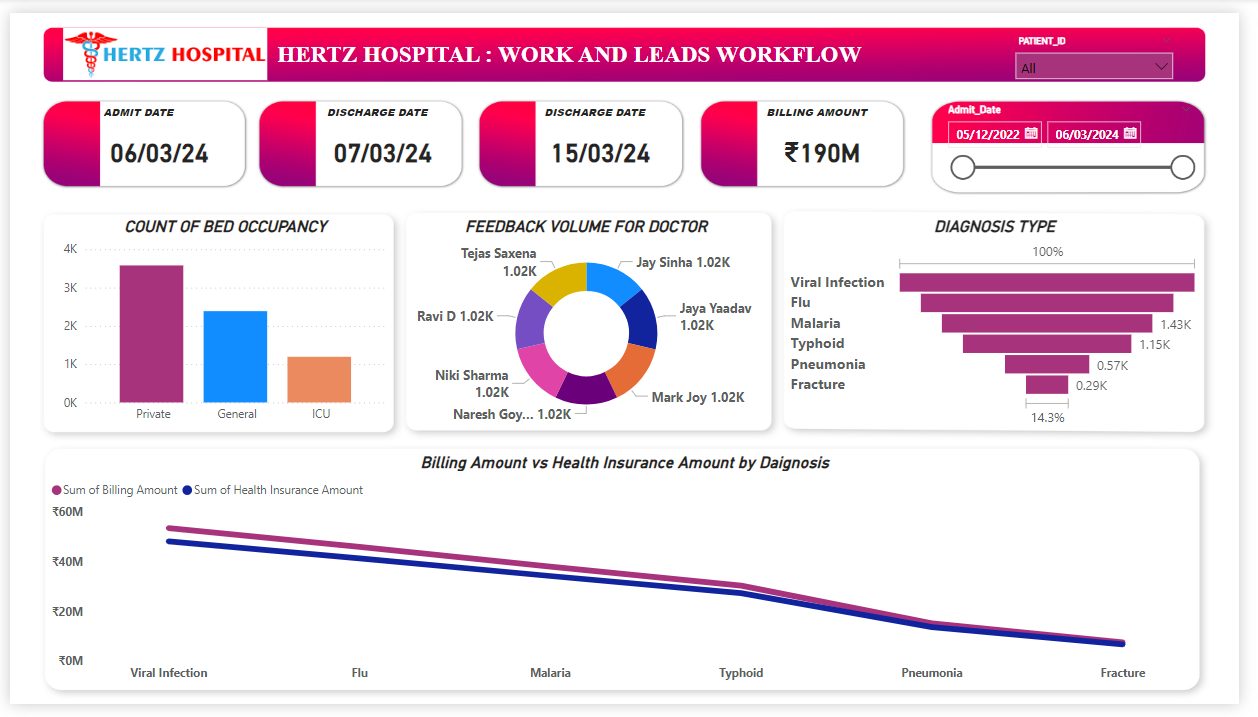

The dashboard page shown, as its layout file describes it:
{"tool":"powerbi","page":{"name":"Page 1","canvas":[1280,720],"ordinal":0},"visuals":[{"type":"image","box":[50,10,223,66],"z":0},{"type":"textbox","box":[272.9,22.9,681.4,47.1],"z":1000},{"type":"slicer","fields":{"Values":["Sheet1.Patient_ID"]},"box":[1037.1,18.6,184.3,57.1],"z":2000},{"type":"card","title":"ADMIT DATE","fields":{"Values":["Sheet1.Admit_Date"]},"box":[91.4,95.7,125.7,81.4],"z":3000},{"type":"card","title":"DISCHARGE DATE","fields":{"Values":["Sheet1.Discharge_Date"]},"box":[325.7,95.7,125.7,81.4],"z":4000},{"type":"card","title":"DISCHARGE DATE","fields":{"Values":["Sheet1.Followup Date"]},"box":[551.4,95.7,125.7,81.4],"z":5000},{"type":"card","title":"BILLING AMOUNT","fields":{"Values":["Sheet1.Billing Amount"]},"box":[782.9,95.7,125.7,81.4],"z":6000},{"type":"slicer","fields":{"Values":["Sheet1.Admit_Date"]},"box":[964.3,88.6,278.6,97.1],"z":7000},{"type":"columnChart","title":"COUNT OF BED OCCUPANCY","fields":{"Category":["Sheet1.Bed_Occupancy"],"Y":["Sheet1.Bed_Occupancy"]},"box":[50,212.9,348.6,222.9],"z":8000},{"type":"donutChart","title":"FEEDBACK VOLUME FOR DOCTOR","fields":{"Category":["Sheet1.Doctor"],"Y":["Sheet1.Feedback"]},"box":[417.1,212.9,365.7,222.9],"z":9000},{"type":"funnel","title":"DIAGNOSIS TYPE","fields":{"Y":["Sheet1.Diagnosis"],"Category":["Sheet1.Diagnosis"]},"box":[807.1,212.9,435.7,222.9],"z":10000},{"type":"lineChart","title":"Billing Amount vs Health Insurance Amount by Daignosis","fields":{"Category":["Sheet1.Diagnosis"],"Y":["Sheet1.Billing Amount","Sheet1.Health Insurance Amount"]},"box":[37.1,457.1,1205.7,247.1],"z":11000}]}

Visuals, with their boxes in screenshot pixels (x1, y1, x2, y2), scaled from the page's 1280x720 canvas onto the 1258x717 screenshot:
image: 49:10:268:76
textbox: 268:23:938:70
slicer - Sheet1.Patient_ID: 1019:19:1200:75
"ADMIT DATE" card: 90:95:213:176
"DISCHARGE DATE" card: 320:95:444:176
"DISCHARGE DATE" card: 542:95:665:176
"BILLING AMOUNT" card: 769:95:893:176
slicer - Sheet1.Admit_Date: 948:88:1222:185
"COUNT OF BED OCCUPANCY" columnChart: 49:212:392:434
"FEEDBACK VOLUME FOR DOCTOR" donutChart: 410:212:769:434
"DIAGNOSIS TYPE" funnel: 793:212:1221:434
"Billing Amount vs Health Insurance Amount by Daignosis" lineChart: 36:455:1221:701
